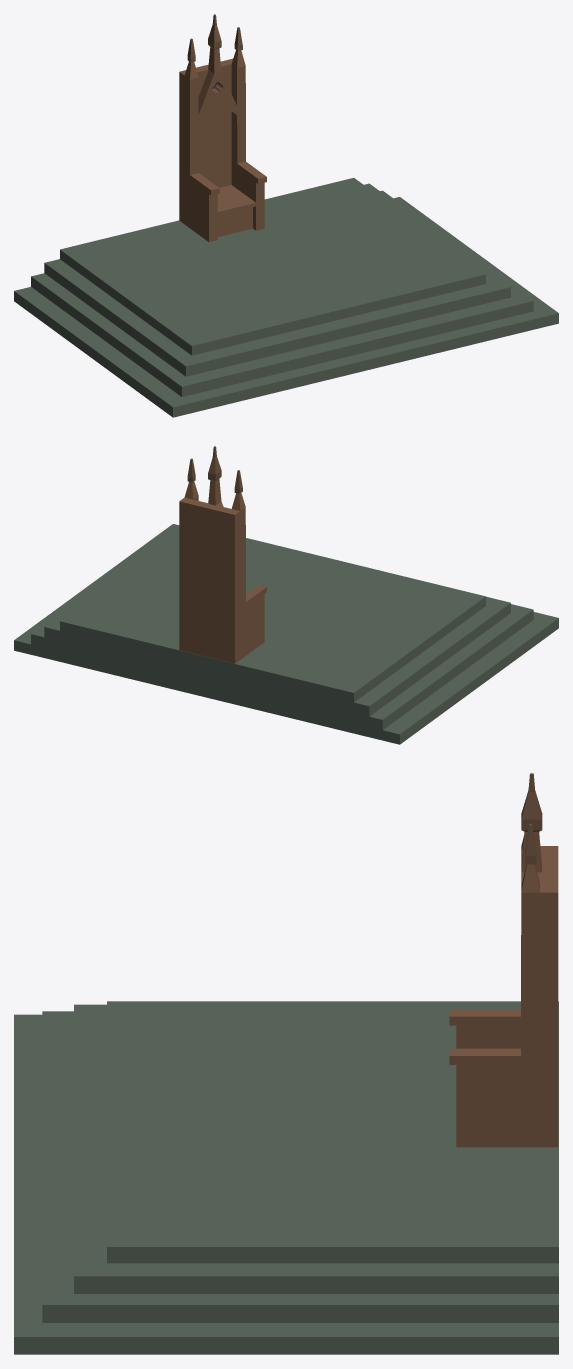
Rendered from throne.fbx.
3 views of the same model, one above another, from view 1: azimuth 30°, elevation 25°; view 2: azimuth 150°, elevation 25°; view 3: azimuth 270°, elevation 25° (orthographic). The views are drawn at different scales.
Parts seen in each view (by area): view 1: Cube; view 2: Cube; view 3: Cube.
Part boxes in pixels (x1=…): Cube: x1=14, y1=14, x2=558, y2=417; Cube: x1=14, y1=446, x2=558, y2=744; Cube: x1=14, y1=773, x2=558, y2=1354.
Size of the model in its own units: 1400 by 850 by 1000.
